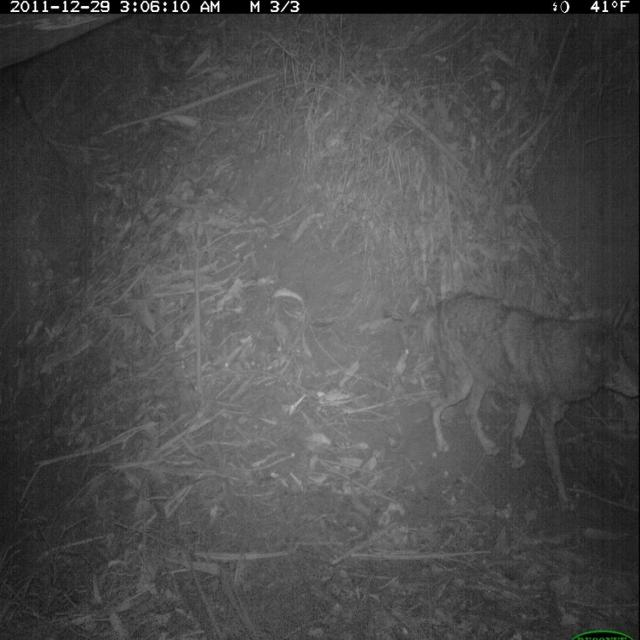coyote: (381, 288, 635, 514)
